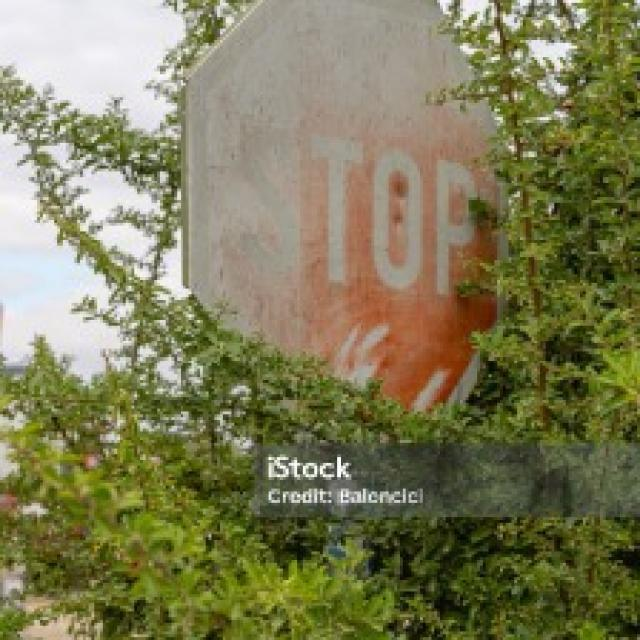stop: (179, 0, 511, 418)
